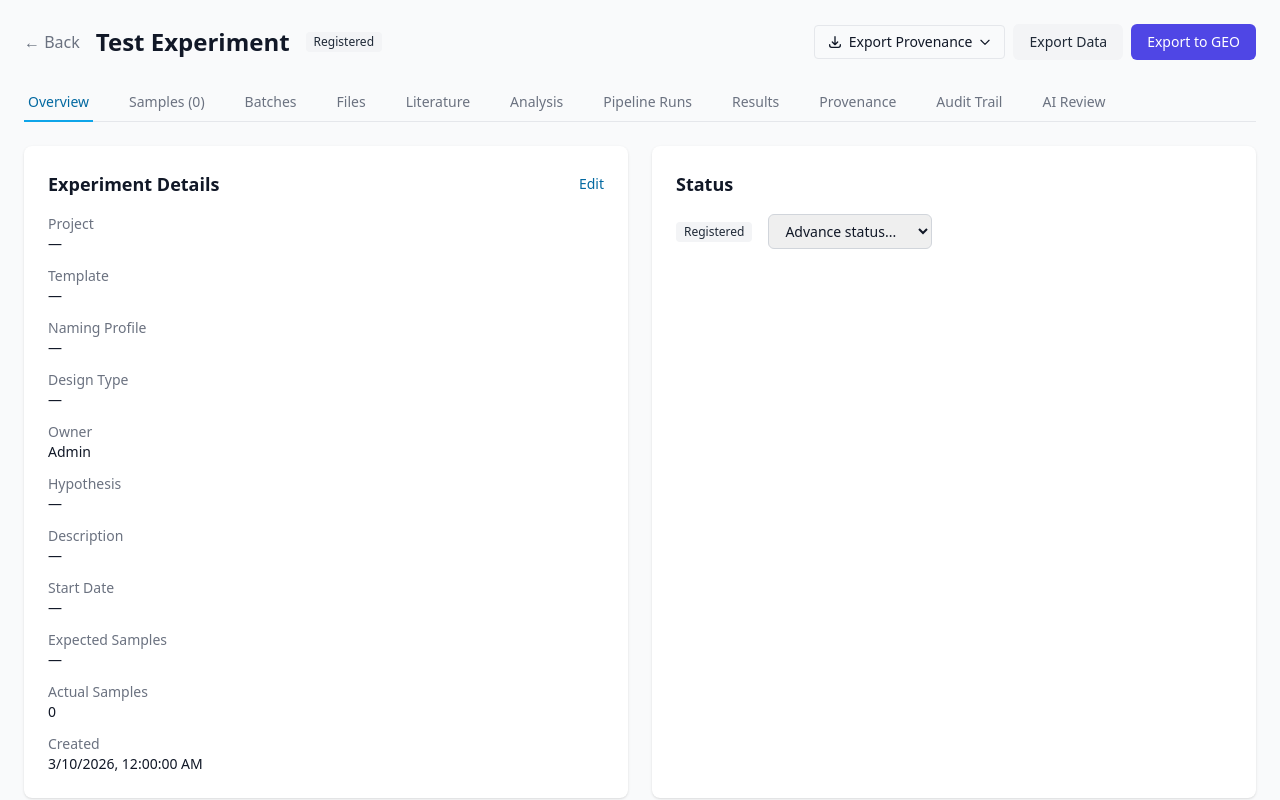
Test: Experiment Detail - Results Tab › shows rich QC cards and working plot previews matching the canonical pages
Expected: the heading "Test Experiment" is shown, [96,26,290,58]
Click the button "Results" at x=756, y=103, box [728,84,783,122]
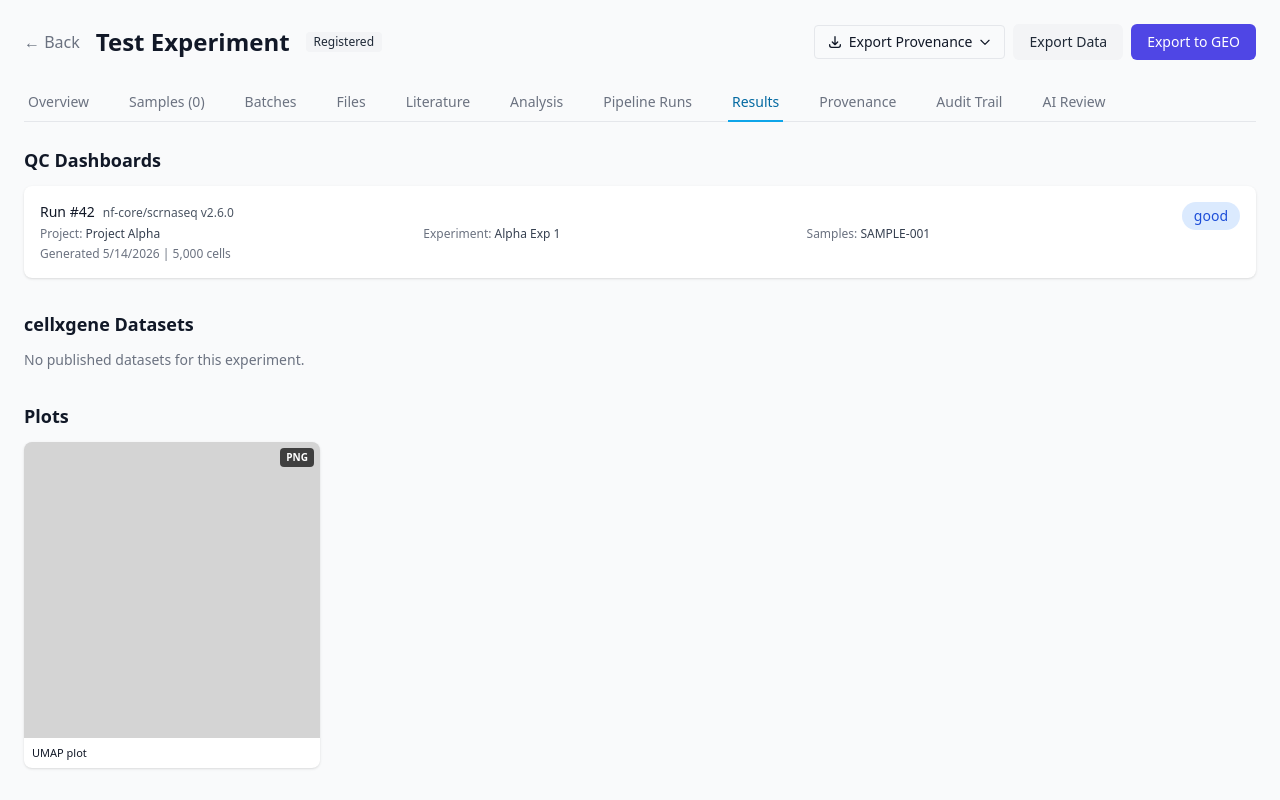
Expected: the text "nf-core/scrnaseq v2.6.0" is shown, [103,205,234,221]
Expected: the text "Project Alpha" is shown, [86,225,160,242]
Expected: the text "Alpha Exp 1" is shown, [495,225,560,242]
